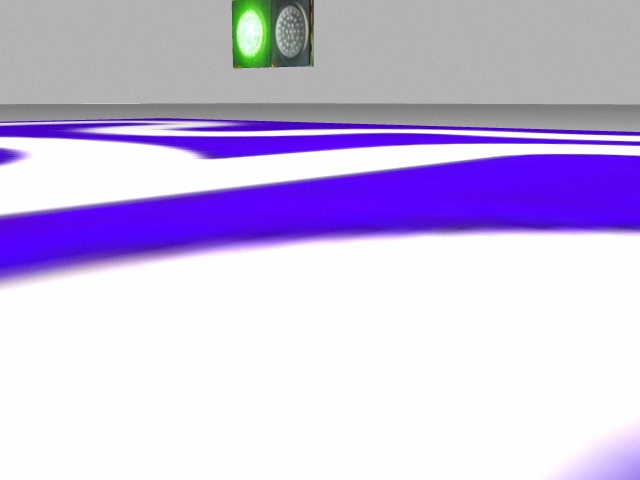green: (232, 3, 274, 65)
